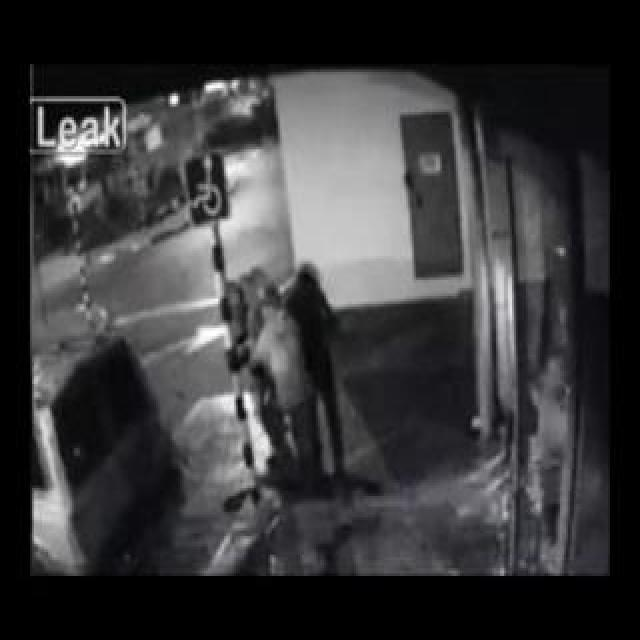thief: (207, 272, 331, 402)
